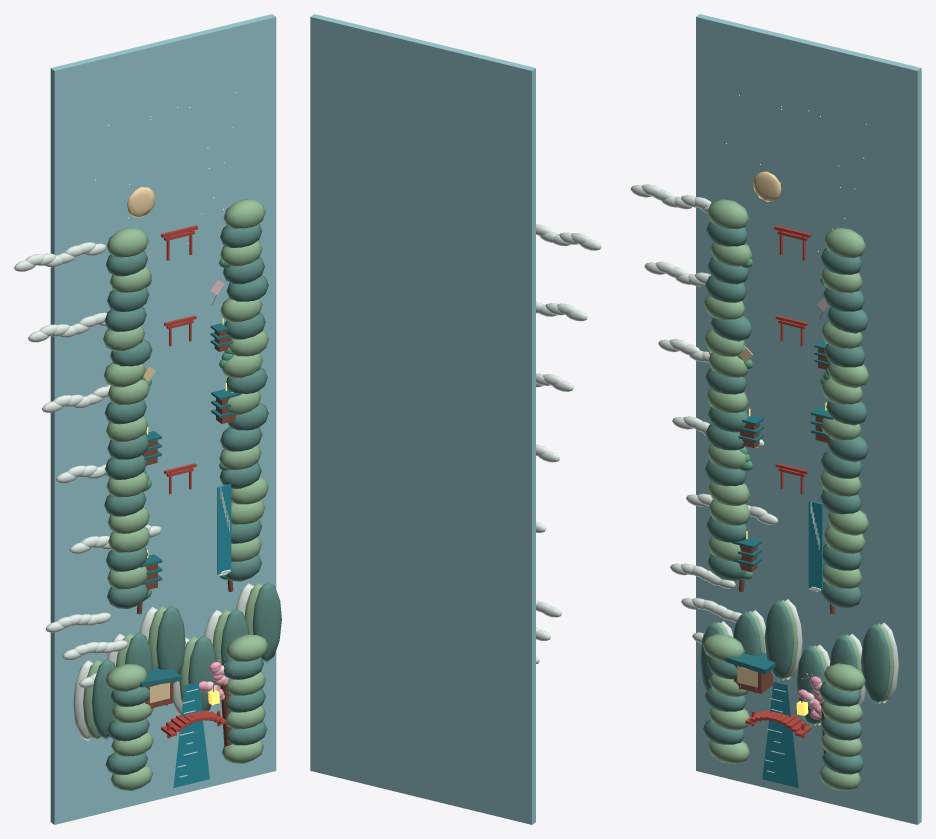
File: zen_world.glb
3 views of the same model, side by side, from view 1: azimuth 30°, elevation 25°; view 2: azimuth 150°, elevation 25°; view 3: azimuth 330°, elevation 25° (orthographic).
Visible parts, largest first — view 1: Backdrop, River, Mountain 2-5, Mountain 2-2, Mountain 2-0, Upper waterfall, Mountain 2-3, Upper cliff 5-1-3, Upper cliff 5--1-3, Cliff 1-6, Cliff -1-6, Upper cliff 2-1-3 (+55 smaller); view 2: Backdrop; view 3: Backdrop, River, Mountain 2-5, Mountain 2-2, Upper waterfall, Mountain 2-3, Upper cliff 5-1-3, Upper cliff 5--1-3, Cliff 1-6, Mountain 2-1, Cliff -1-6, Upper cliff 4-1-3 (+51 smaller).
Boxes of the visible parts, x1,y1,x2,y2 form: Backdrop: (50, 14, 276, 824); River: (173, 682, 209, 787); Mountain 2-5: (252, 582, 281, 662); Mountain 2-2: (156, 605, 185, 683); Mountain 2-0: (92, 659, 115, 739); Upper waterfall: (217, 484, 231, 574); Mountain 2-3: (188, 635, 216, 710); Upper cliff 5-1-3: (223, 199, 265, 228); Upper cliff 5--1-3: (106, 228, 148, 257); Cliff 1-6: (226, 634, 268, 661); Cliff -1-6: (105, 664, 147, 691); Upper cliff 2-1-3: (220, 427, 262, 451); Backdrop: (310, 14, 535, 824); Backdrop: (696, 14, 921, 824); River: (762, 682, 798, 787); Mountain 2-5: (861, 623, 890, 704); Mountain 2-2: (764, 600, 793, 680); Upper waterfall: (808, 500, 822, 591); Mountain 2-3: (796, 645, 825, 726); Upper cliff 5-1-3: (824, 227, 866, 258); Upper cliff 5--1-3: (707, 199, 749, 229); Cliff 1-6: (823, 663, 865, 691); Mountain 2-1: (733, 611, 761, 656); Cliff -1-6: (702, 634, 744, 661); Upper cliff 4-1-3: (827, 307, 869, 333).
Bounding box in the file's own units: 19.78 × 52 × 4.67.
